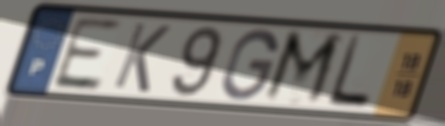9: (167, 24, 226, 99)
E: (48, 14, 125, 93)
G: (218, 27, 281, 103)
K: (109, 20, 174, 96)
L: (324, 32, 373, 111)
M: (258, 28, 347, 110)
